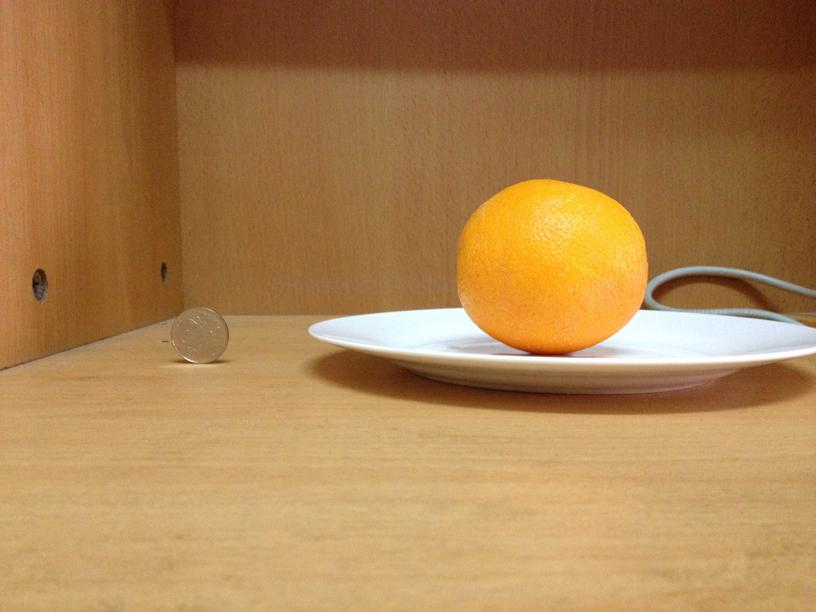coin: (169, 307, 228, 365)
orange: (453, 174, 647, 351)
